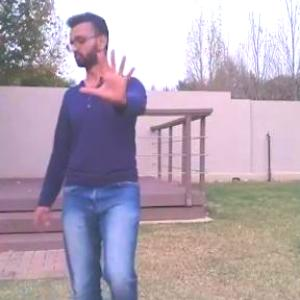follow_hand: (76, 42, 140, 106)
